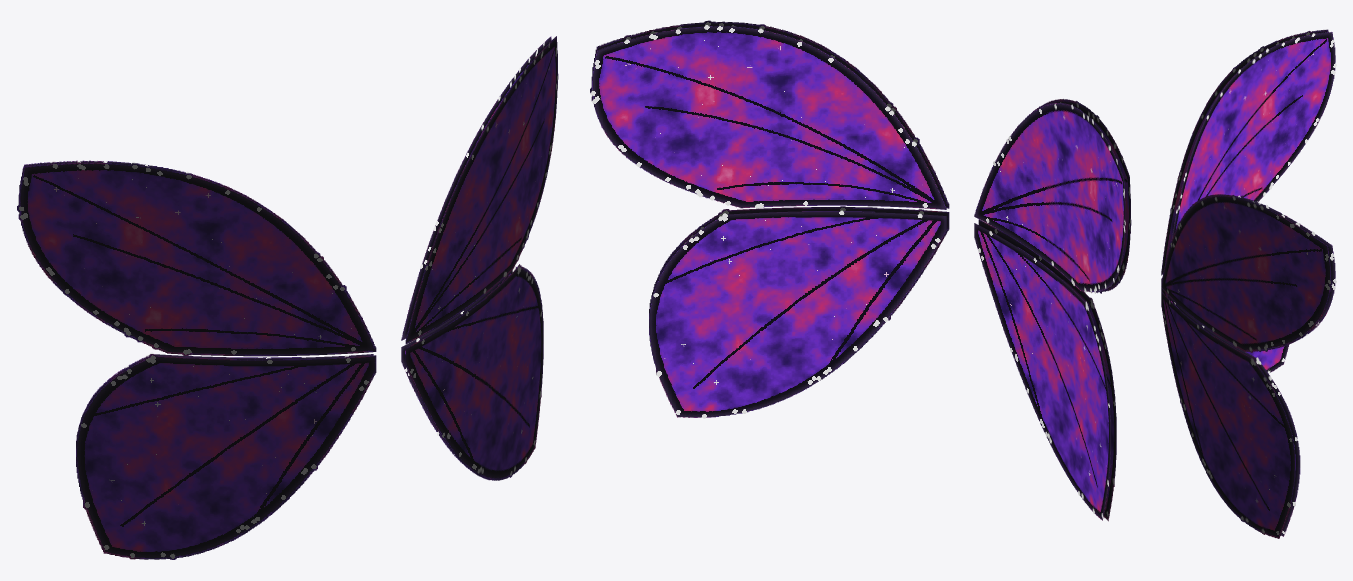
The model's file is nebula_butterfly_wings.glb.
3 renders of one model, left to right at view 1: azimuth 30°, elevation 25°; view 2: azimuth 150°, elevation 25°; view 3: azimuth 270°, elevation 25°, orthographic. The views are drawn at different scales.
Visible parts, largest first — view 1: Nebula Butterfly Wings Wing Right, Nebula Butterfly Wings Wing Left; view 2: Nebula Butterfly Wings Wing Left, Nebula Butterfly Wings Wing Right; view 3: Nebula Butterfly Wings Wing Left, Nebula Butterfly Wings Wing Right.
Boxes of the visible parts, left/top/right/bottom form: Nebula Butterfly Wings Wing Right: left=17, top=160, right=376, bottom=559; Nebula Butterfly Wings Wing Left: left=401, top=36, right=558, bottom=480; Nebula Butterfly Wings Wing Left: left=590, top=20, right=949, bottom=418; Nebula Butterfly Wings Wing Right: left=974, top=99, right=1131, bottom=521; Nebula Butterfly Wings Wing Left: left=1161, top=194, right=1336, bottom=538; Nebula Butterfly Wings Wing Right: left=1161, top=29, right=1336, bottom=373.
Bounding box in the file's own units: 2.2 × 1.55 × 0.7545.
Materials: 2 (2 with a texture image).
